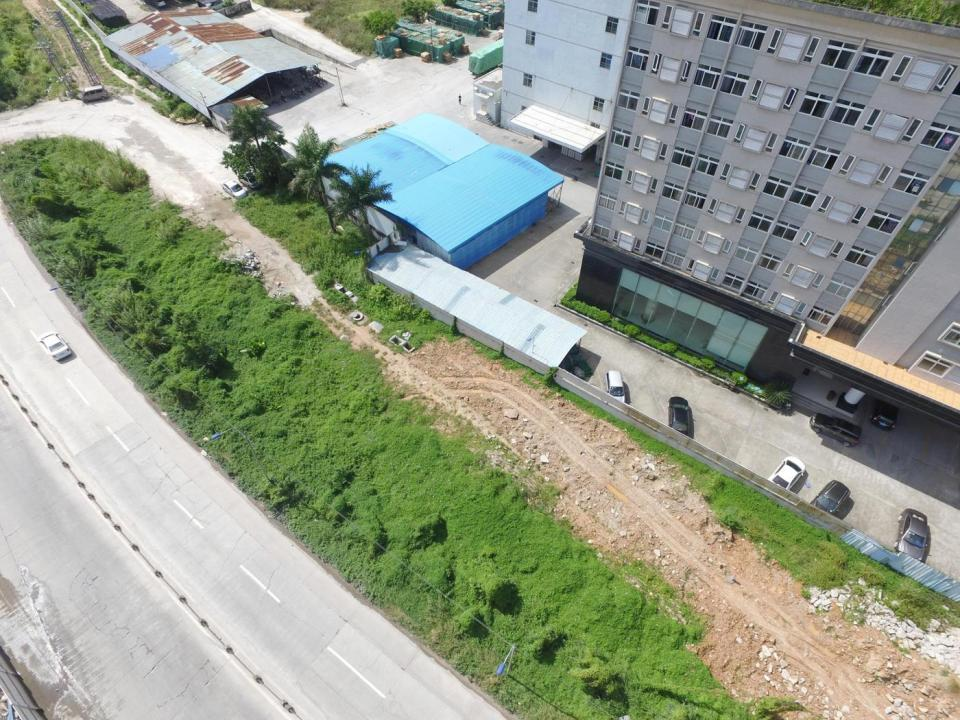car: (807, 480, 852, 522), (766, 455, 806, 500), (895, 508, 927, 562), (870, 392, 903, 432), (40, 329, 72, 364), (667, 396, 689, 443), (603, 371, 626, 407), (221, 178, 243, 200), (238, 172, 260, 191)
van: (809, 412, 863, 449), (82, 85, 107, 104)
